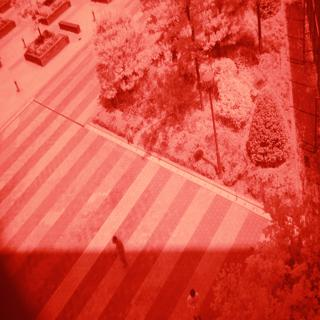person: (104, 232, 133, 279), (180, 283, 208, 320)
